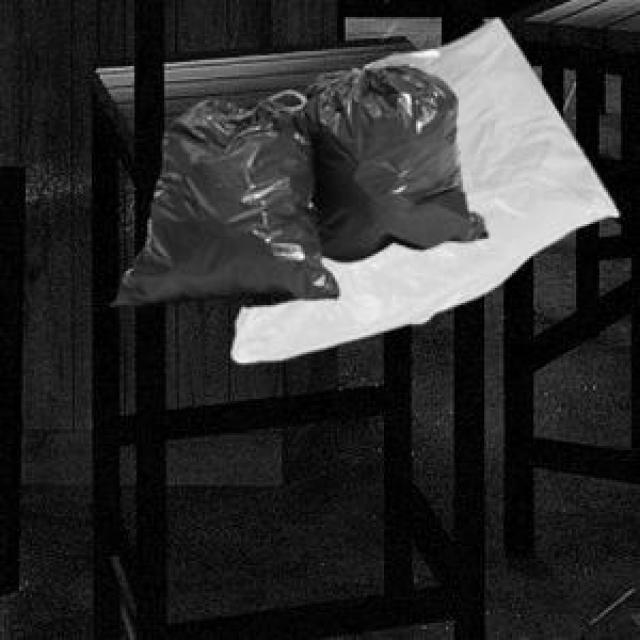miscellaneous trash: (109, 47, 483, 303)
